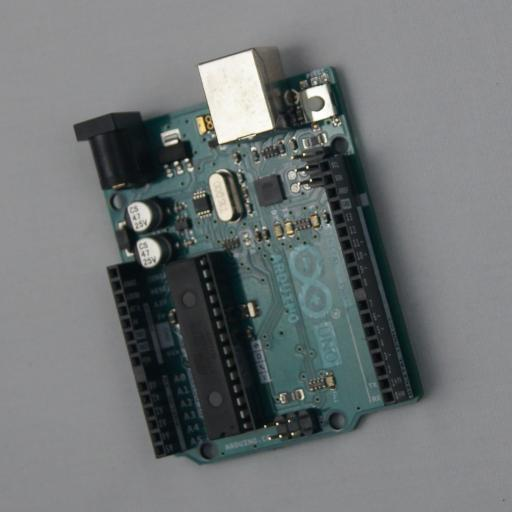Arduino Uno -Green-: (73, 48, 435, 465)
